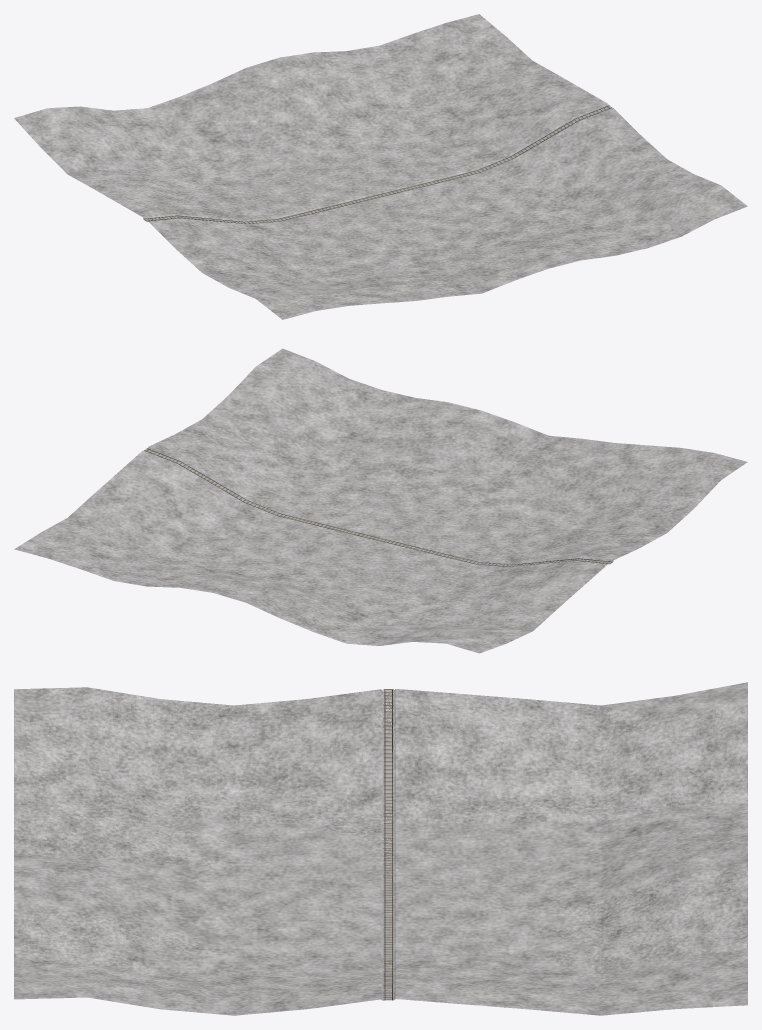
The model's file is groundandrail.glb.
3 renders of one model, top to bottom at view 1: azimuth 30°, elevation 25°; view 2: azimuth 150°, elevation 25°; view 3: azimuth 270°, elevation 25°, orthographic. The views are drawn at different scales.
Visible parts, largest first — view 1: Ground, RailroadPlank; view 2: Ground, RailroadPlank; view 3: Ground, RailroadPlank, Rail.001.
Boxes of the visible parts, x1,y1,x2,y2 form: Ground: [14, 14, 747, 319]; RailroadPlank: [143, 106, 610, 224]; Ground: [14, 348, 747, 653]; RailroadPlank: [146, 449, 612, 566]; Ground: [14, 682, 747, 1015]; RailroadPlank: [383, 689, 393, 999]; Rail.001: [384, 690, 385, 999].
Bounding box in the file's own units: 573 × 48.04 × 572.
Materials: 4 (4 with a texture image).
